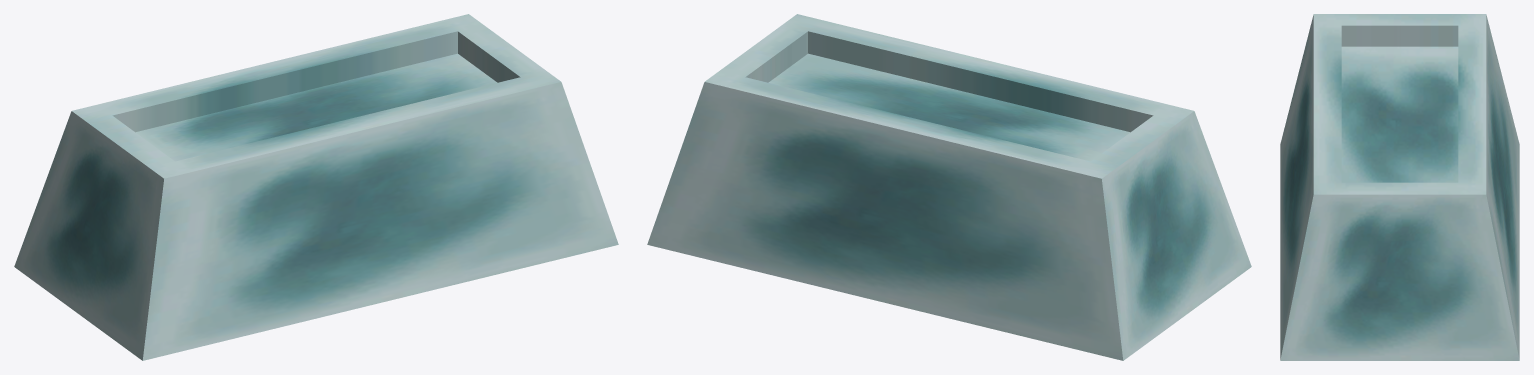
The model's file is IronBar.fbx.
3 views of the same model, side by side, from view 1: azimuth 30°, elevation 25°; view 2: azimuth 150°, elevation 25°; view 3: azimuth 270°, elevation 25° (orthographic). The views are drawn at different scales.
Visible parts, largest first — view 1: Rock; view 2: Rock; view 3: Rock.
Part boxes in pixels (box(x1,y1,x2,y2)): Rock: box(14, 14, 618, 360); Rock: box(647, 14, 1251, 360); Rock: box(1280, 14, 1519, 360).
Size of the model in its own units: 1.17 by 0.3753 by 0.5482.
